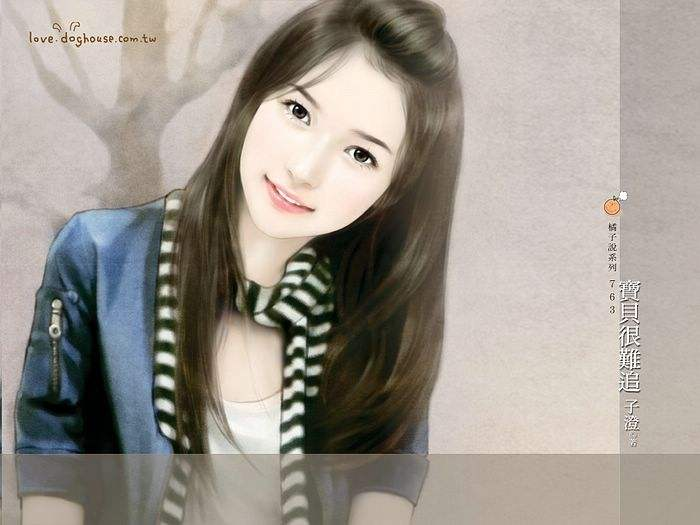person: (107, 19, 495, 420)
